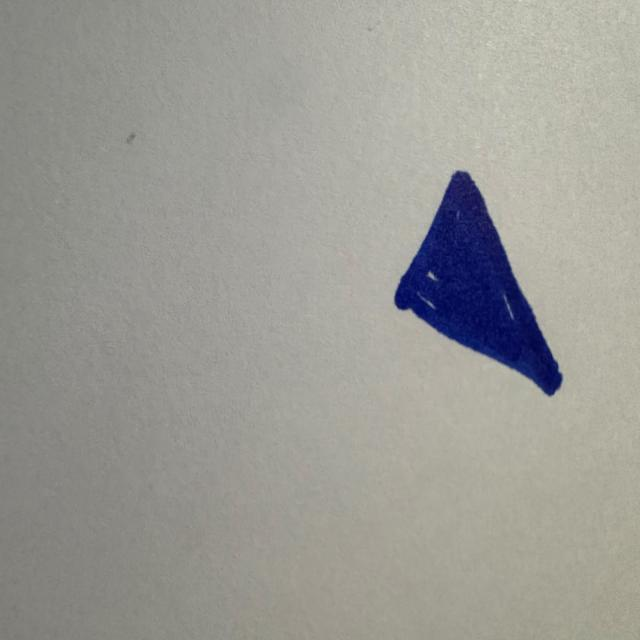Triangle: (394, 171, 562, 395)
